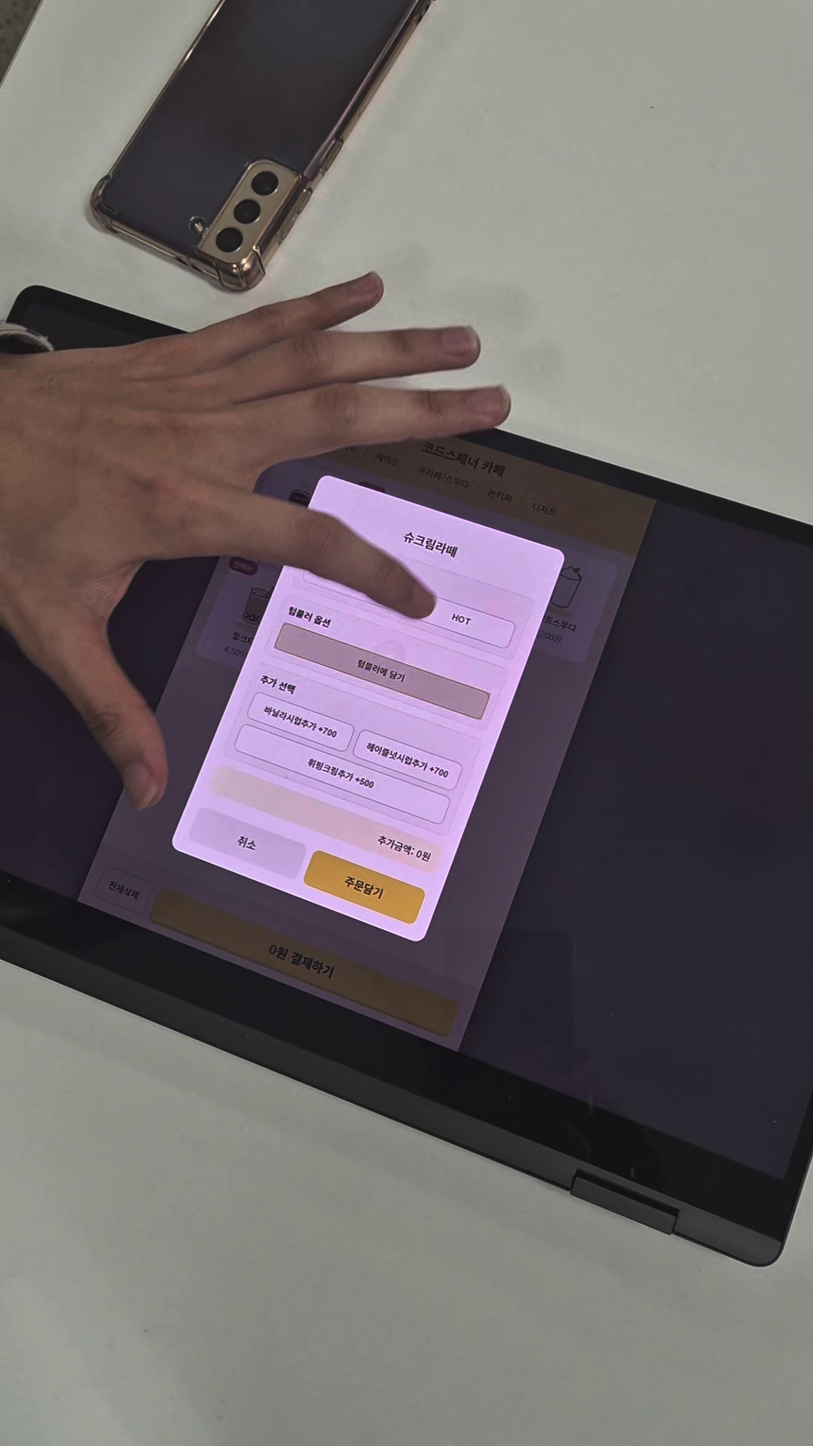action_button: (300, 850, 429, 927), (185, 806, 311, 880)
menu_name: (393, 523, 467, 566)
option_button: (233, 724, 451, 825), (273, 623, 493, 719), (347, 726, 465, 794), (245, 689, 357, 755), (406, 586, 517, 648)
popup_modal: (149, 466, 573, 950)
